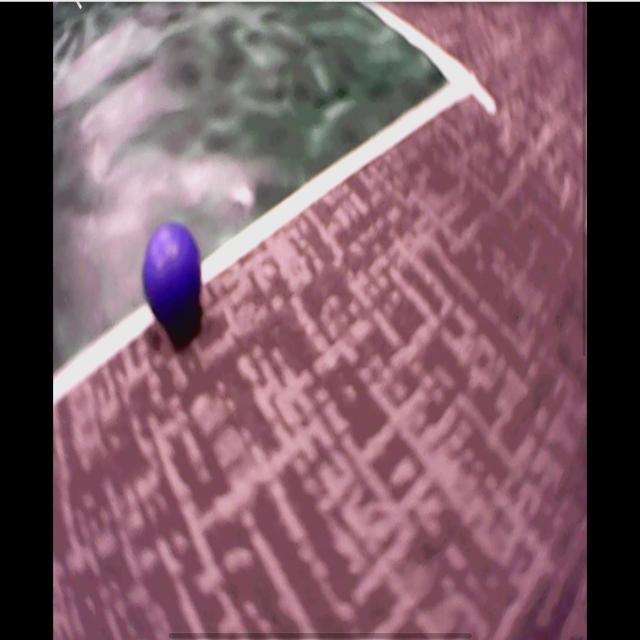ball: (142, 223, 204, 322)
